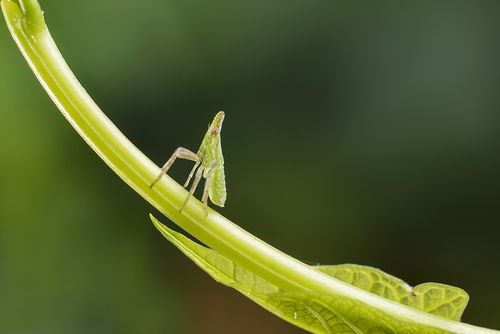Cicadellidae: (150, 110, 226, 216)
